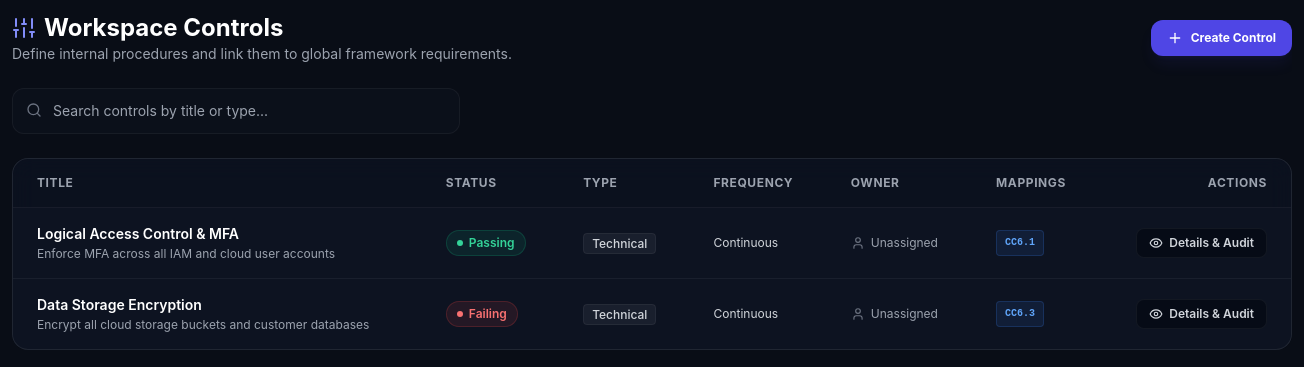
ControlsPage Component › filters controls based on search input
Expected: the text "Logical Access Control & MFA" is shown, [37,225,239,242]
Type "Logical Access" into the field with placeholder "Search controls by title or type...".
click(236, 111); type("Logical Access")  # box [12,88,460,134]
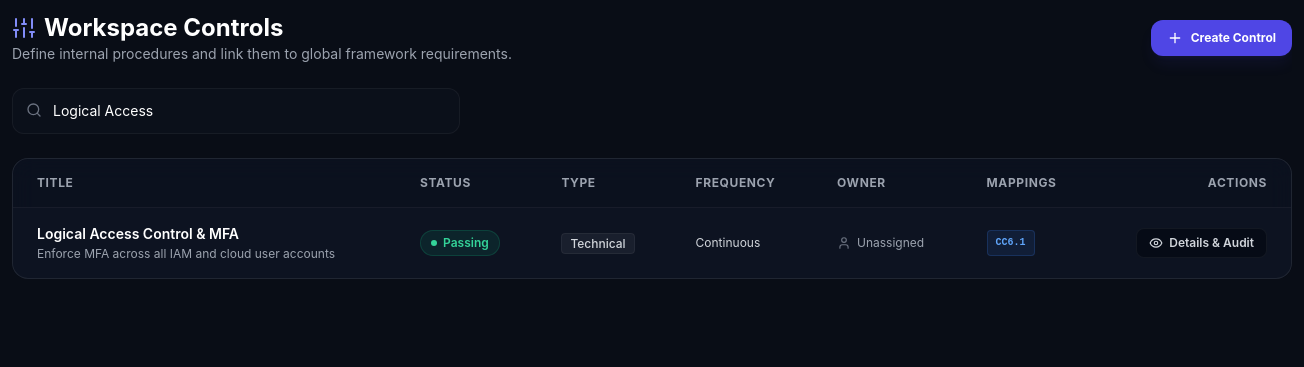
Expected: the text "Logical Access Control & MFA" is shown, [37,225,239,242]
Now the text "Data Storage Encryption" is gone
